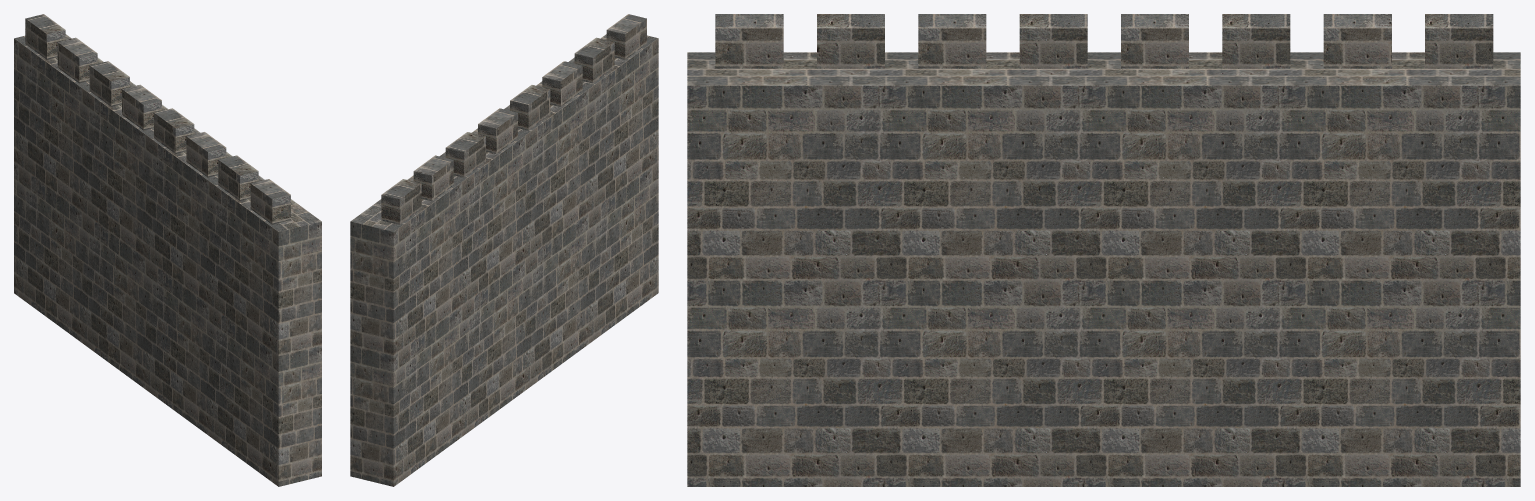
The model's file is WallSmall.FBX.
3 renders of one model, left to right at view 1: azimuth 30°, elevation 25°; view 2: azimuth 150°, elevation 25°; view 3: azimuth 270°, elevation 25°, orthographic. The views are drawn at different scales.
Visible parts, largest first — view 1: Box215, Box217, Box222, Box216, Box218, Box219, Box223, Box221, Box220; view 2: Box215, Box223, Box216, Box218, Box219, Box221, Box217, Box222, Box220; view 3: Box215, Box217, Box218, Box219, Box221, Box222, Box223, Box216, Box220.
Part boxes in pixels (x1,y1,x2,y2): Box215: (14, 34, 321, 486); Box217: (250, 179, 290, 224); Box222: (57, 37, 97, 83); Box216: (218, 155, 258, 201); Box218: (186, 132, 226, 177); Box219: (154, 108, 194, 153); Box223: (25, 14, 65, 59); Box221: (89, 61, 129, 106); Box220: (122, 84, 161, 130); Box215: (350, 34, 658, 486); Box223: (381, 179, 421, 224); Box216: (574, 37, 614, 83); Box218: (542, 61, 582, 106); Box219: (510, 85, 550, 130); Box221: (445, 132, 485, 177); Box217: (606, 14, 646, 59); Box222: (413, 155, 453, 201); Box220: (478, 108, 517, 154); Box215: (687, 52, 1520, 486); Box217: (715, 14, 783, 68); Box218: (918, 14, 986, 68); Box219: (1019, 14, 1087, 68); Box221: (1222, 14, 1290, 68); Box222: (1323, 14, 1391, 68); Box223: (1425, 14, 1493, 68); Box216: (817, 14, 884, 68); Box220: (1121, 14, 1188, 68).
Bounding box in the file's own units: 158 × 978 × 1672.
